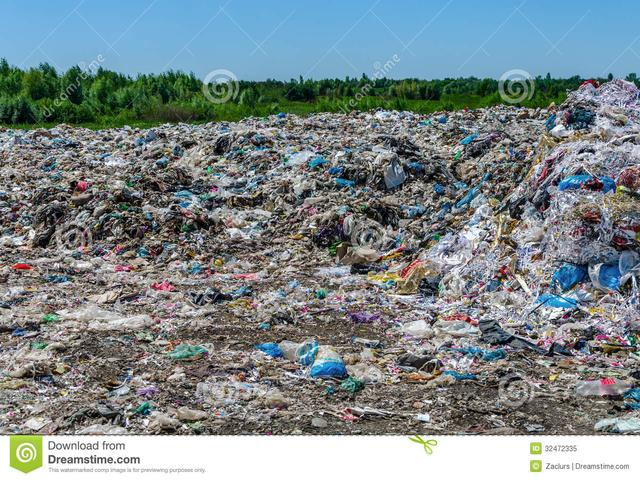garbage: (44, 134, 629, 411)
